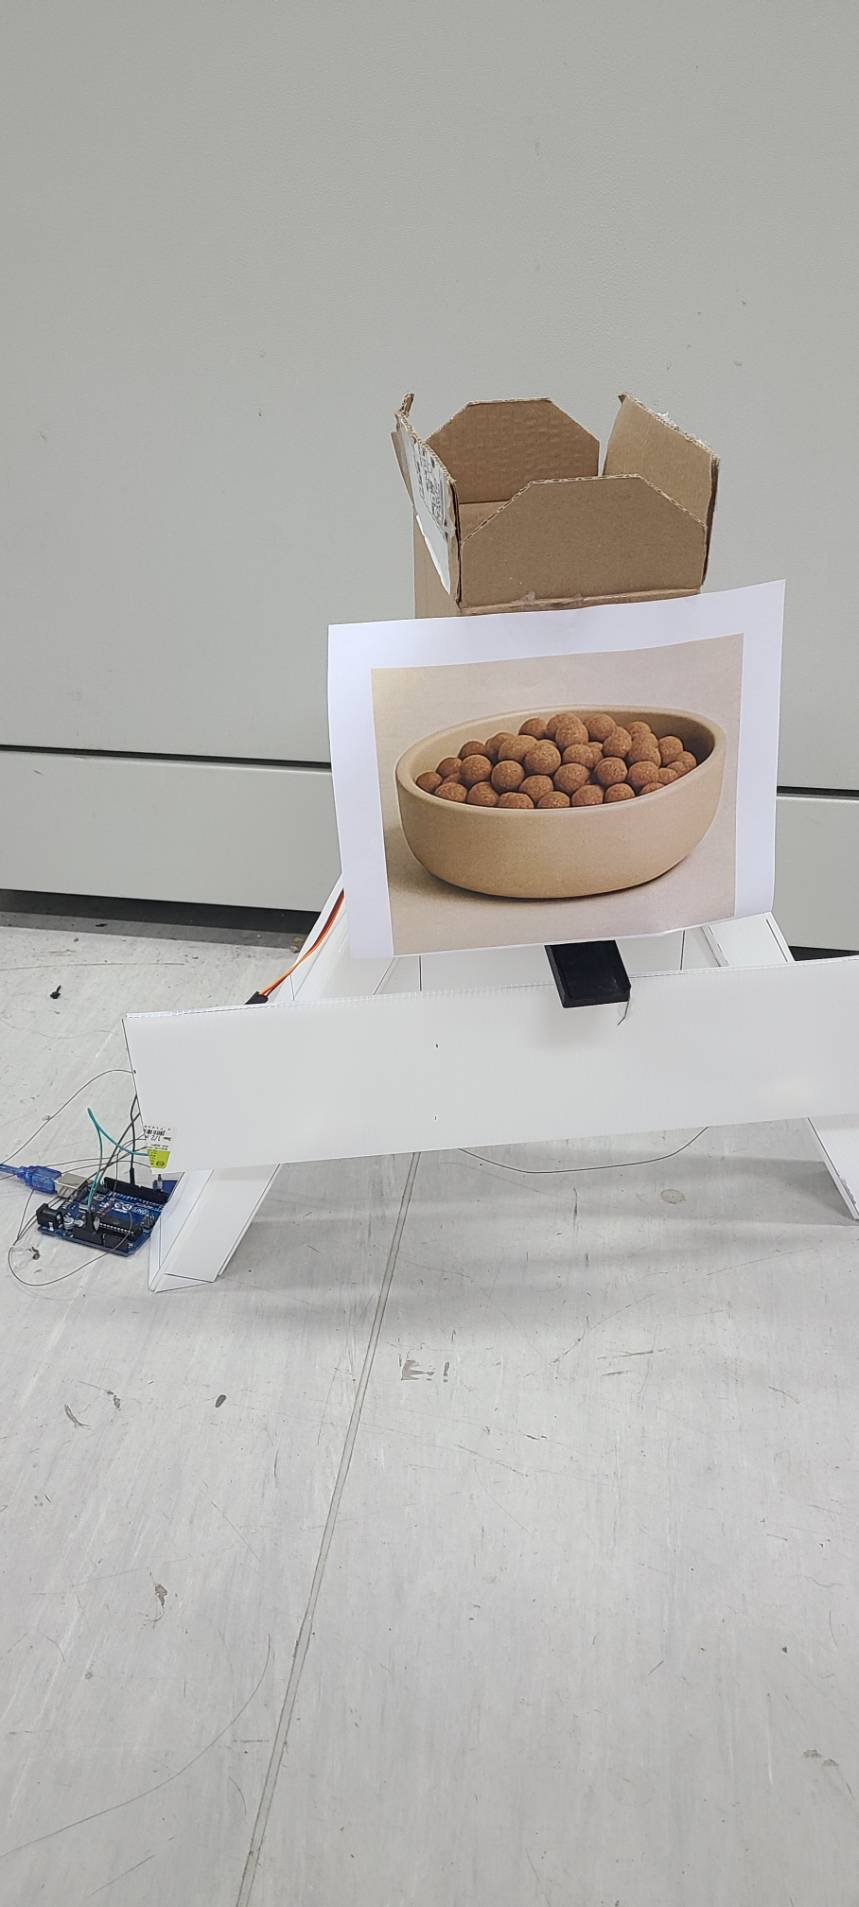machine: (395, 708, 720, 891)
